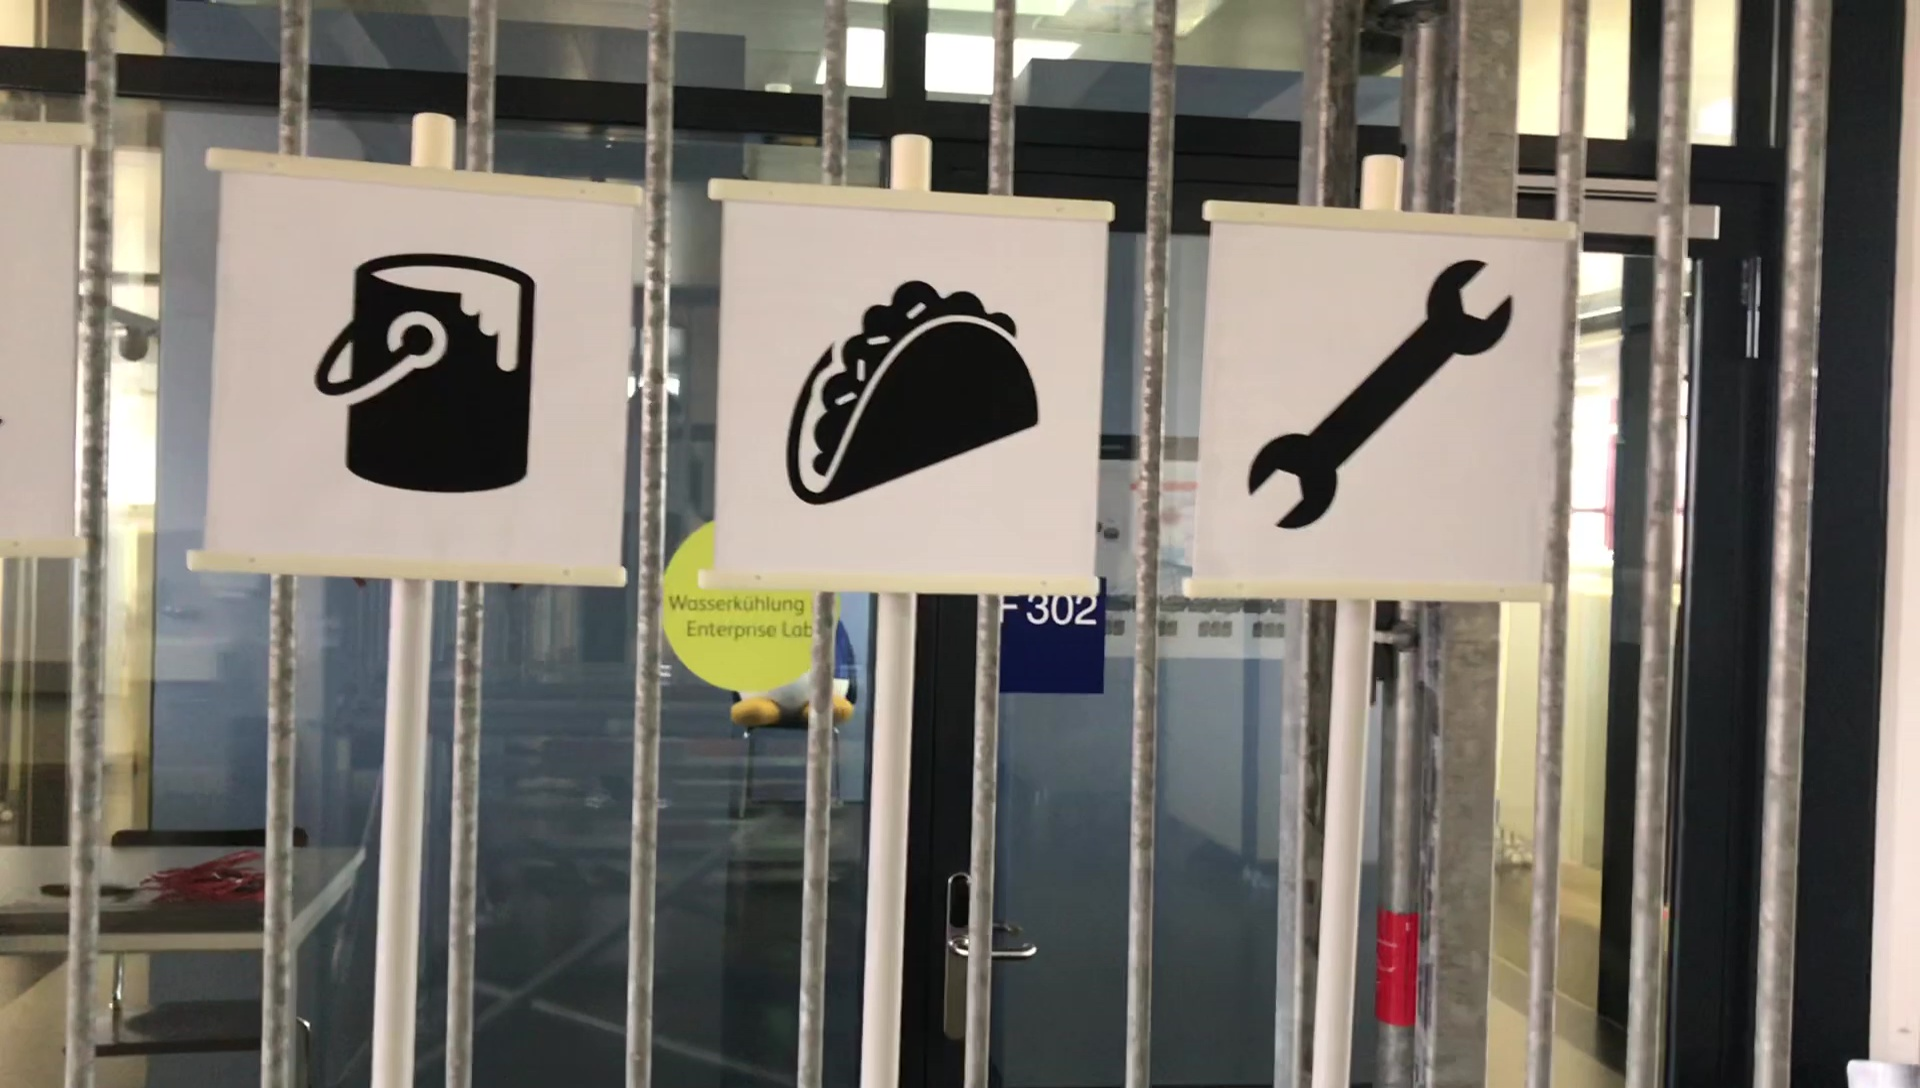bucket: (309, 237, 549, 504)
taco: (771, 276, 1043, 510)
wrench: (1236, 258, 1524, 534)
